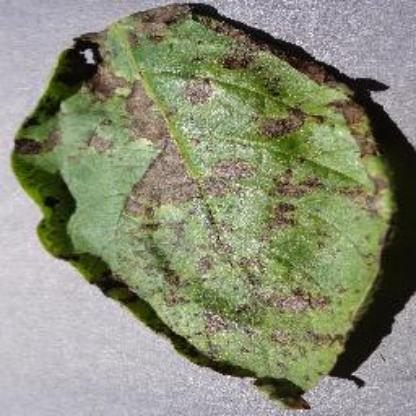Early-Blight: (15, 5, 398, 401)
